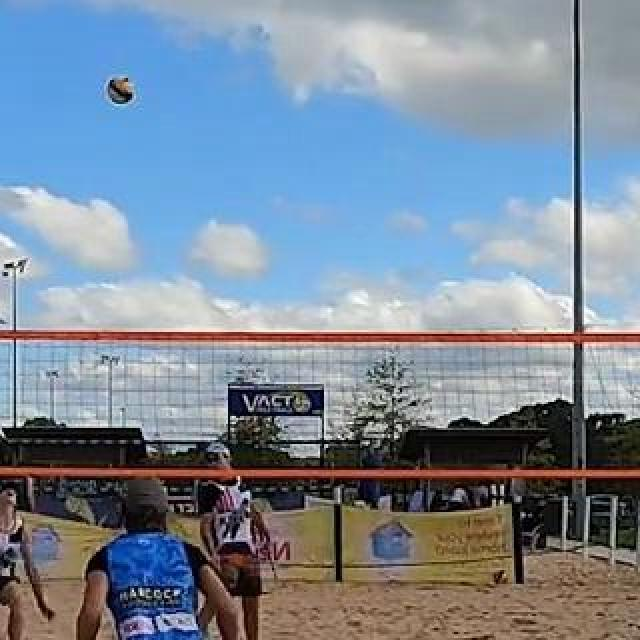volleyball: (106, 78, 132, 106), (493, 568, 509, 584)
